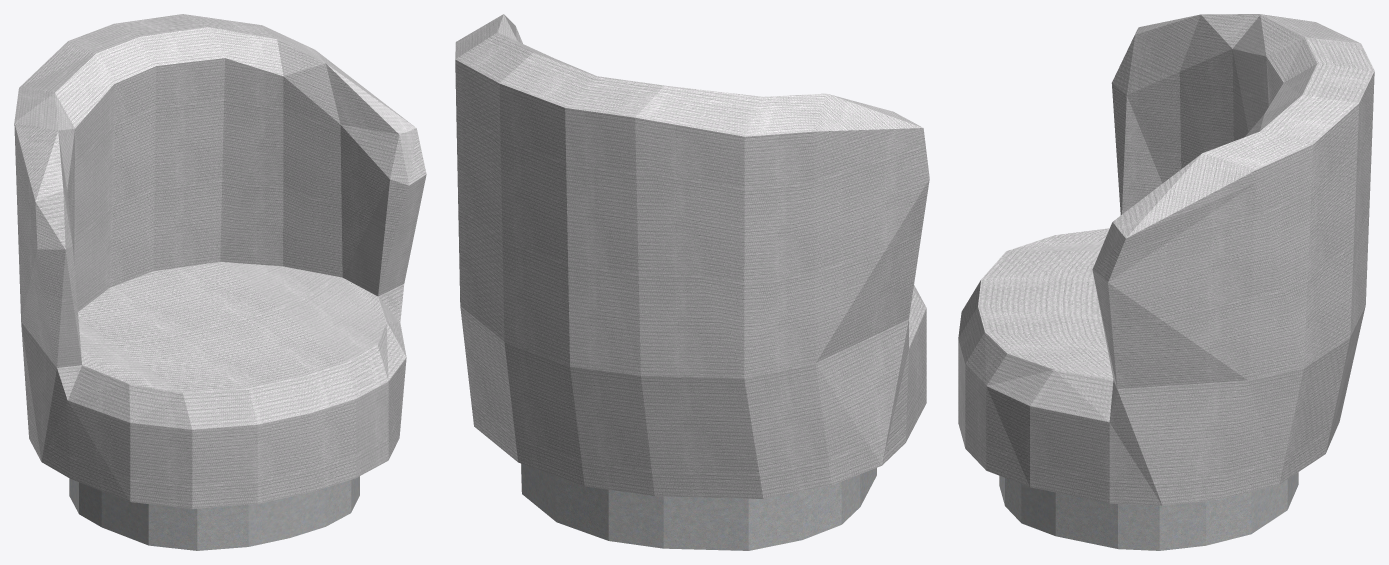
File: frn_all_mdrn_sofa_chair_s01_l0.fbx
3 views of the same model, side by side, from view 1: azimuth 30°, elevation 25°; view 2: azimuth 150°, elevation 25°; view 3: azimuth 270°, elevation 25° (orthographic). The views are drawn at different scales.
Parts seen in each view (by area): view 1: mesh_node; view 2: mesh_node; view 3: mesh_node.
Part boxes in pixels (<box>): mesh_node: <box>14,14,426,550</box>; mesh_node: <box>455,14,929,550</box>; mesh_node: <box>958,14,1374,550</box>.
Size of the model in its own units: 1.19 by 1.18 by 1.05.
